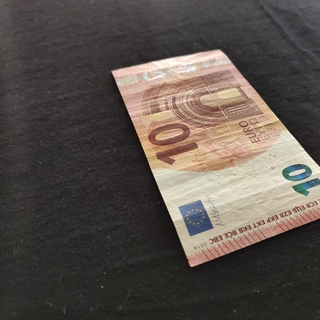10EUROFront: (111, 48, 320, 268)
